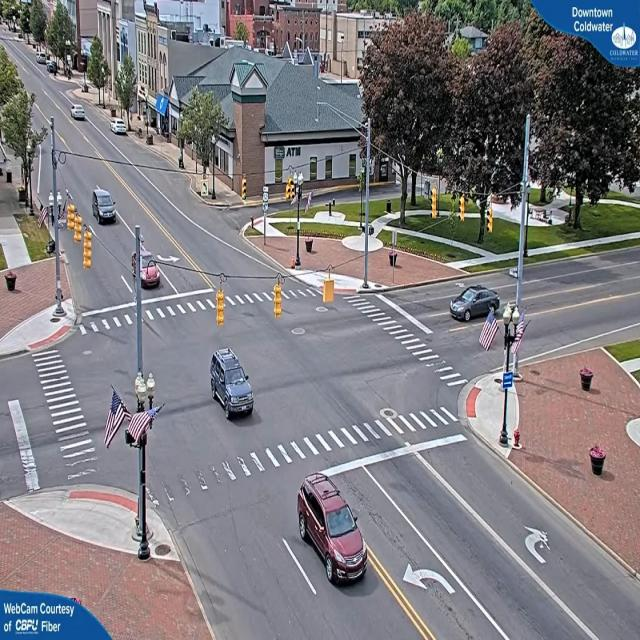car: (296, 474, 368, 586), (208, 349, 254, 421), (450, 285, 502, 323), (135, 237, 162, 292), (92, 188, 117, 224), (112, 121, 130, 138), (70, 105, 86, 122)
